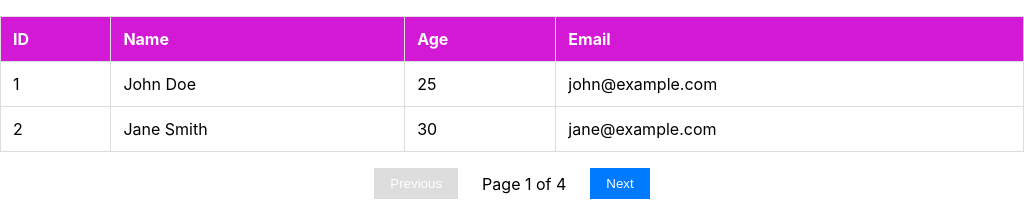
Scenario: handles pagination on Previous button click
The width and height of the screenshot is (1024, 216).
Expected: the text "John Doe" is shown, [111, 62, 405, 106]
Expected: the text "Jane Smith" is shown, [111, 106, 405, 152]
Click the button "Next".
click(620, 184)  # box [590, 168, 650, 199]
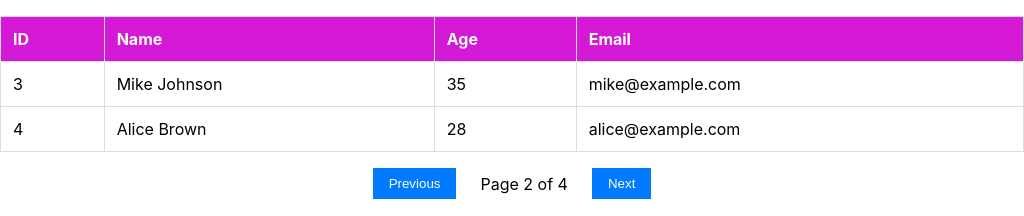
Now the text "Mike Johnson" is shown, box [104, 62, 434, 106]
// Go back to previous page
Click the button "Previous".
click(415, 184)  # box [373, 168, 456, 199]
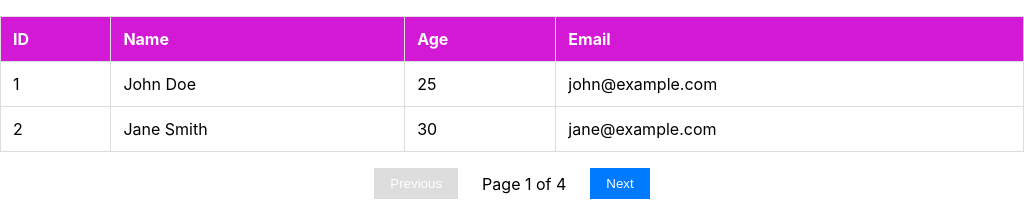
Now the text "John Doe" is shown, box [111, 62, 405, 106]
Now the text "Jane Smith" is shown, box [111, 106, 405, 152]
